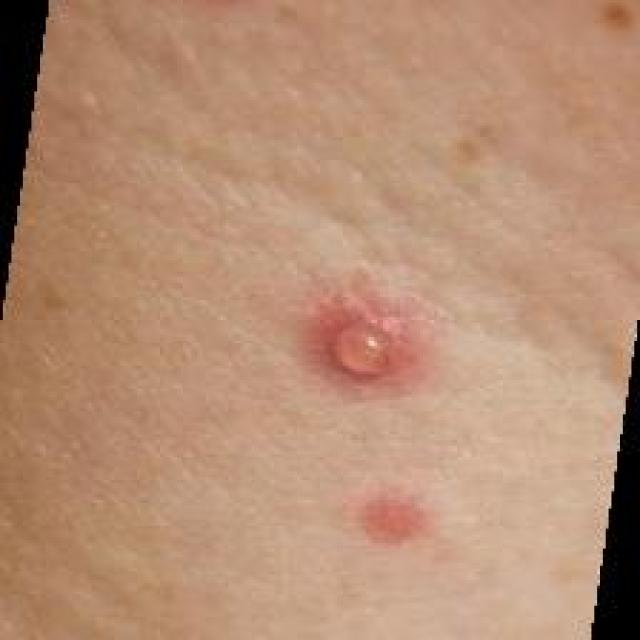others: (83, 113, 508, 626)
